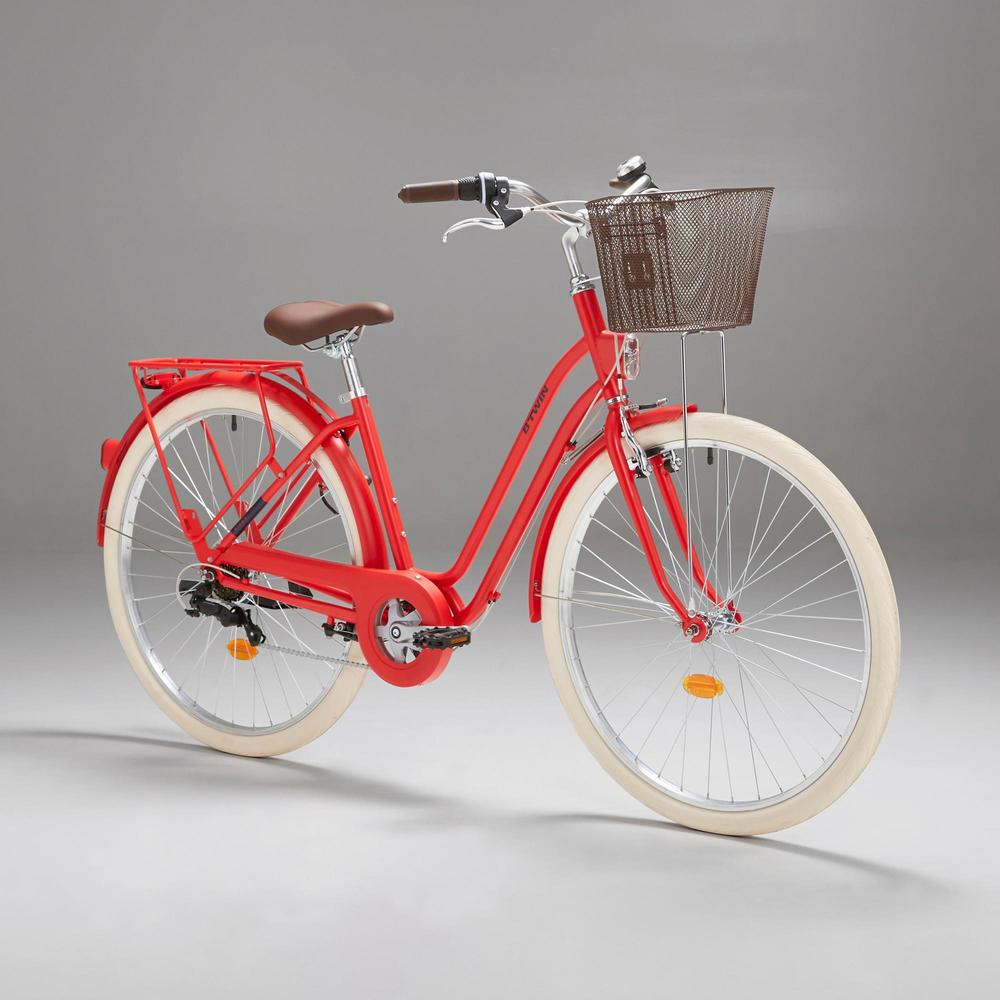UrbanBike: (81, 152, 907, 826)
